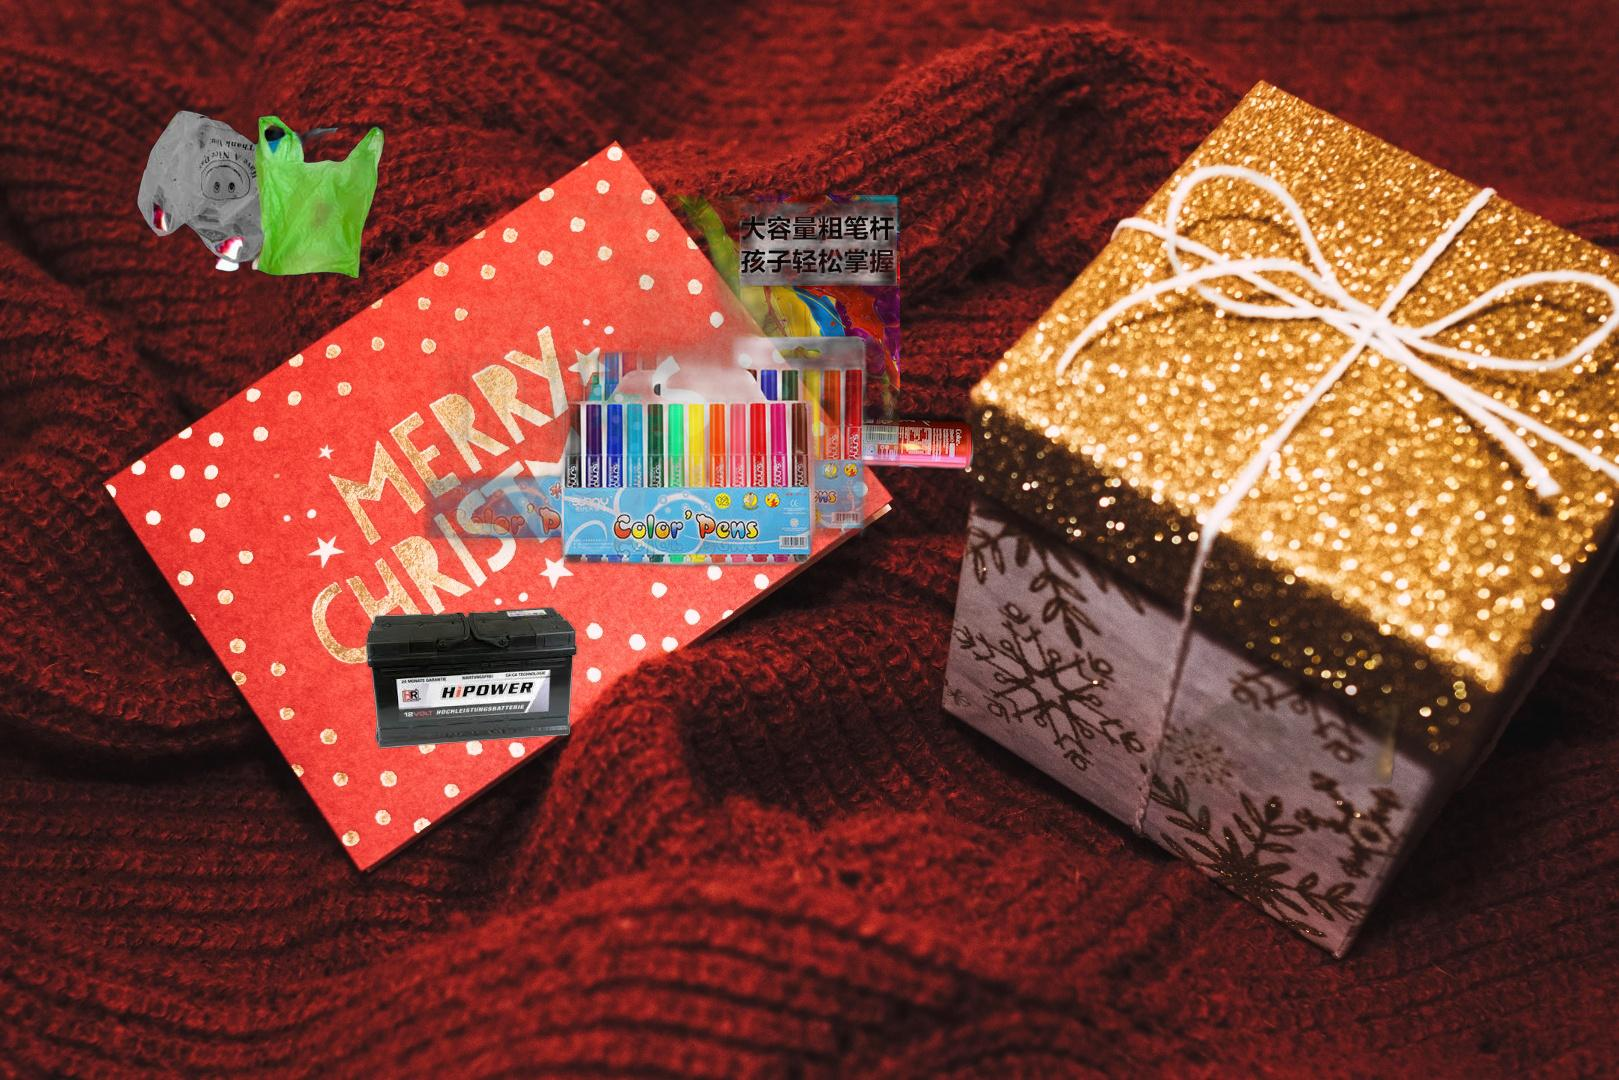battery: (363, 604, 580, 751)
metal-cans: (847, 412, 979, 475)
paper-bag: (1127, 661, 1427, 961)
penholder: (400, 195, 901, 695)
plastic-bag: (134, 107, 387, 282)
